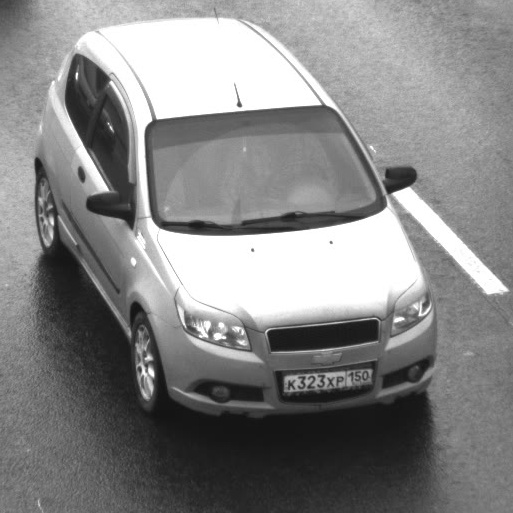plate: (275, 357, 381, 401)
